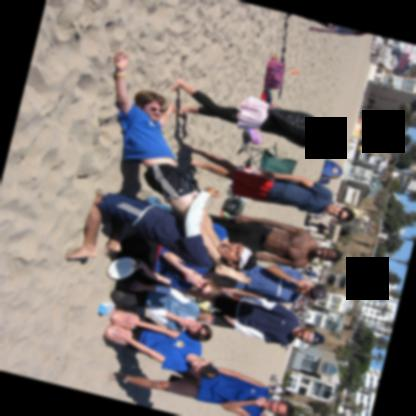backpack: (221, 197, 243, 215), (241, 128, 261, 145), (318, 178, 329, 183)
handbag: (263, 60, 283, 89), (243, 129, 263, 145)
suitcase: (264, 59, 285, 89)
